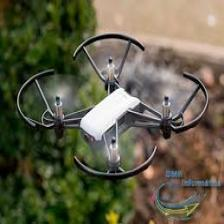drone: (18, 33, 208, 177)
